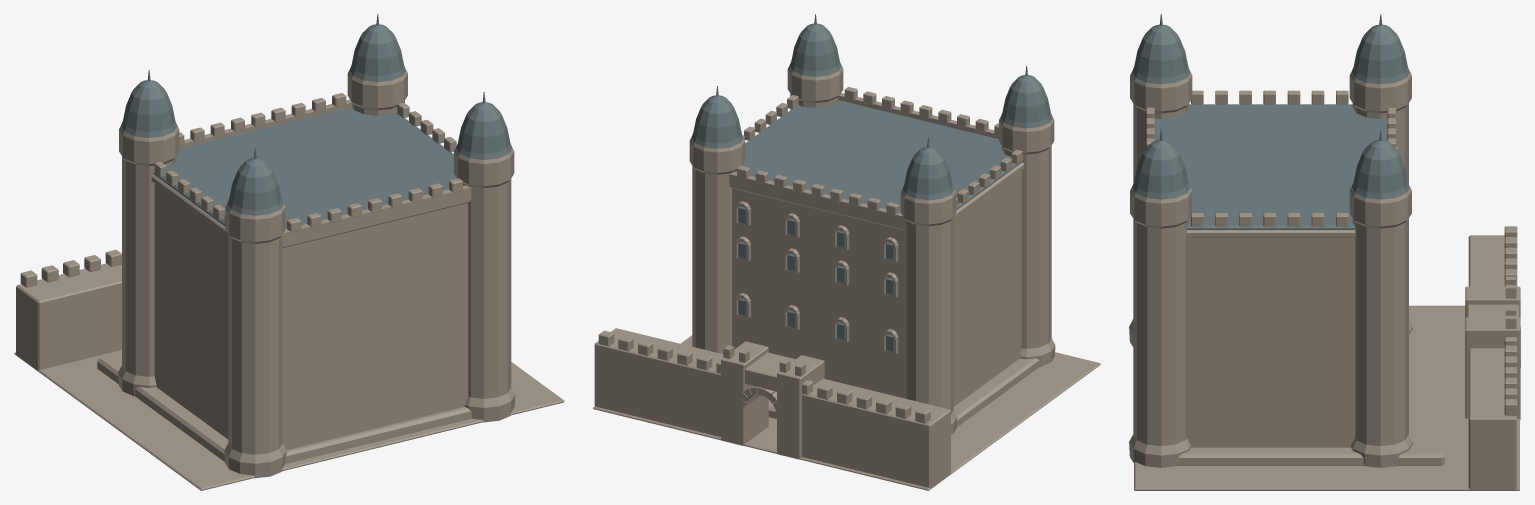
Rendered from tower-mint-exterior.glb.
3 views of the same model, side by side, from view 1: azimuth 30°, elevation 25°; view 2: azimuth 150°, elevation 25°; view 3: azimuth 270°, elevation 25° (orthographic). The views are drawn at different scales.
Visible parts, largest first — view 1: Board.001, Board.003, stone.001, stone.003, Board.097, stone, Board.074, Board, Board.014, roof.001, roof.002, roof.003 (+4 smaller); view 2: Board.001, Board.003, Board.074, stone, Board.082, stone.002, stone.001, Board.097, Board.093, Board.090, Board.004, roof.003 (+8 smaller); view 3: Board.001, Board.003, stone.003, stone.002, Board.097, Board, Board.082, stone.001, stone, roof, roof.001, roof.003 (+6 smaller).
Part boxes in pixels (box(x1,y1,x2,y2)): Board.001: box(154, 183, 468, 450); Board.003: box(153, 107, 456, 228); stone.001: box(224, 204, 286, 478); stone.003: box(454, 147, 515, 422); Board.097: box(14, 350, 564, 490); stone: box(118, 126, 179, 396); Board.074: box(16, 263, 121, 370); Board: box(97, 353, 471, 463); Board.014: box(282, 185, 471, 246); roof.001: box(227, 158, 283, 215); roof.002: box(349, 24, 405, 82); roof.003: box(456, 102, 512, 159); Board.001: box(732, 170, 1021, 406); Board.003: box(742, 100, 1022, 212); Board.074: box(802, 378, 950, 488); stone: box(900, 189, 957, 434); Board.082: box(594, 328, 723, 436); stone.002: box(689, 137, 745, 353); stone.001: box(999, 117, 1055, 366); Board.097: box(593, 335, 1100, 490); Board.093: box(721, 341, 768, 445); Board.090: box(777, 355, 824, 459); Board.004: box(729, 172, 903, 228); roof.003: box(789, 23, 841, 76); Board.001: box(1187, 238, 1354, 447); Board.003: box(1154, 104, 1387, 229); stone.003: box(1129, 187, 1192, 467); stone.002: box(1349, 187, 1412, 467); Board.097: box(1134, 305, 1519, 490); Board: box(1177, 319, 1444, 465); Board.082: box(1468, 348, 1516, 489); stone.001: box(1129, 72, 1192, 346); stone: box(1349, 71, 1412, 334); roof: box(1351, 24, 1409, 84); roof.001: box(1132, 24, 1190, 84); roof.003: box(1132, 140, 1190, 199).
Bounding box in the file's own units: 36 × 30 × 32.49.
